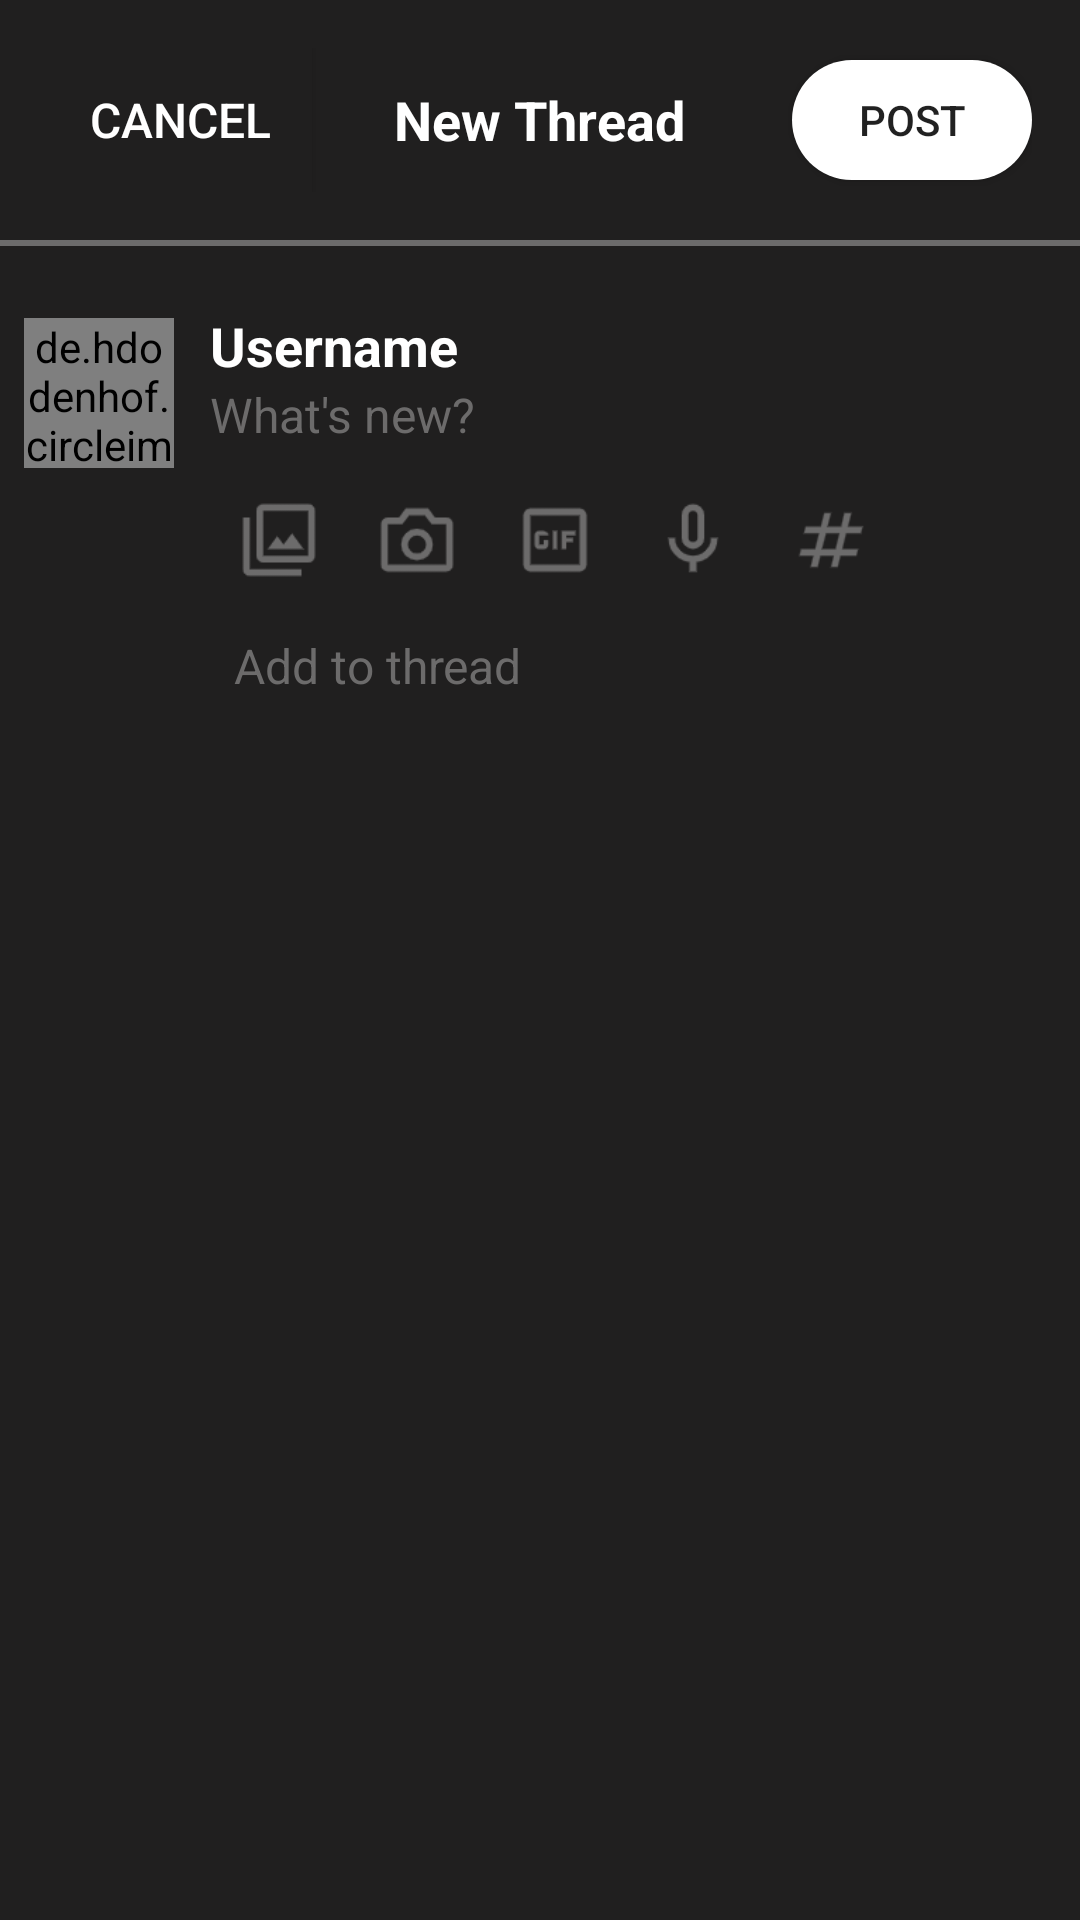

Point at icon controls on the screen. Image size 1080*1920, points as point (x, y).
camera: point (417, 540)
mic: point (693, 538)
photo: point (279, 540)
tag: point (831, 540)
